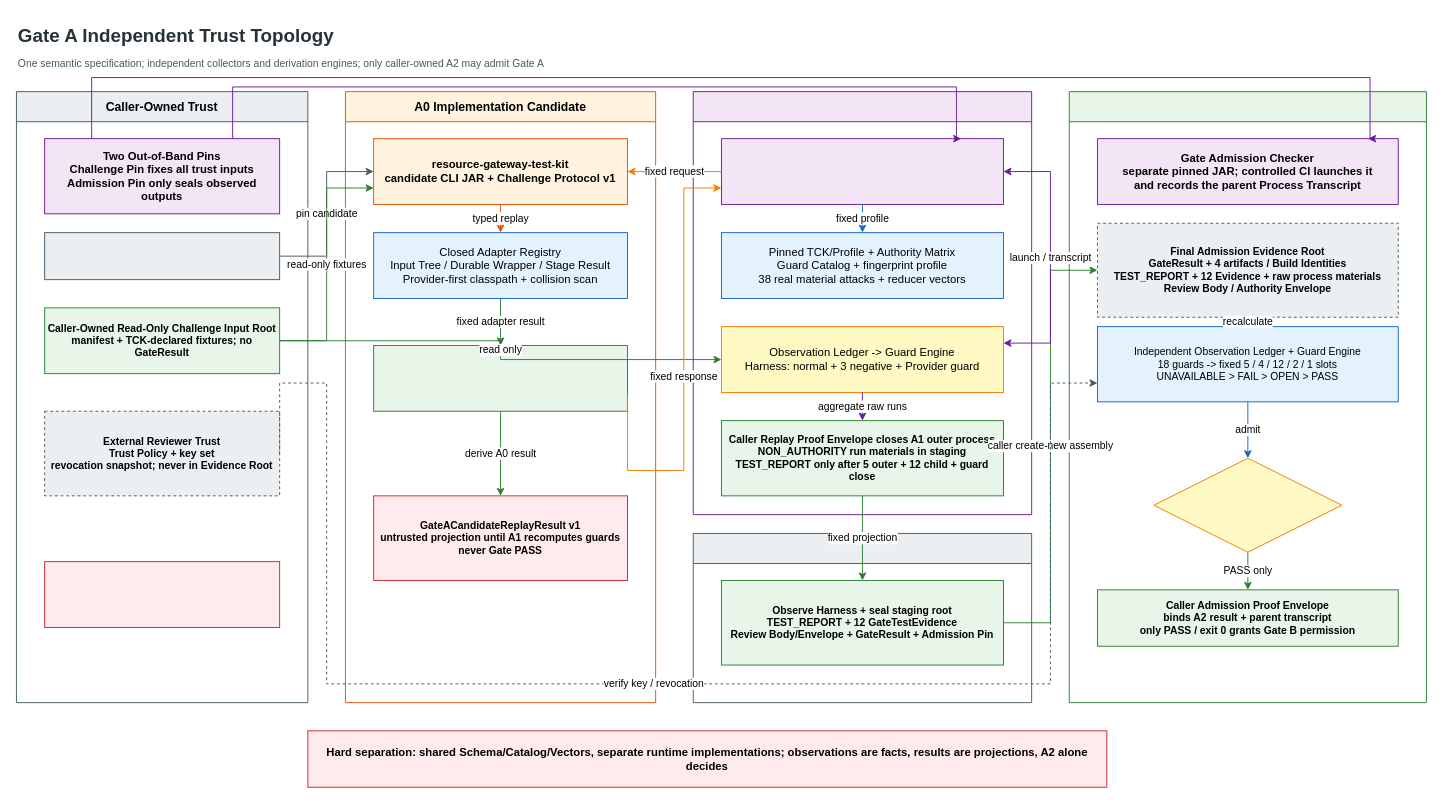
Some shapes in this 1443 by 804 pixel diagram are drawn without their labels. Here are the shapes that lost their labels. From the top down, the box of each, then its label:
(721, 138, 1003, 204): Standalone Maven Verifier pinned actual CodeSource; no protected-root writes
(44, 232, 280, 280): Pinned Time + Artifact Paths Empty Run Material Staging Root
(692, 91, 1032, 515): A1 Independent Verification
(373, 345, 627, 411): CandidateChallengeResponse v1 semantic result + candidate / Provider CodeSource
(1068, 91, 1426, 703): A2 Gate Admission
(1153, 457, 1342, 552): Gate A Decision PASS / OPEN / FAIL / UNAVAILABLE
(44, 561, 280, 627): Trust invariants Pins never come from GateResult or Evidence Root
(692, 533, 1032, 703): Caller-Owned Assembly
